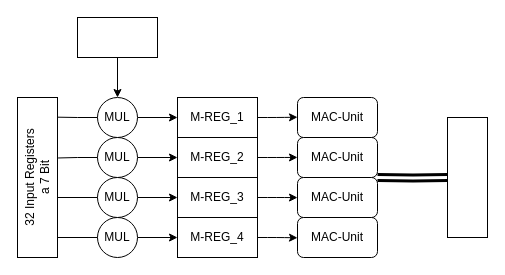
Some shapes in this 505 by 275 pixel diagram are drawn without their labels. The shapes that lost their labels are listed below. From the top down, each one's centre as x and y in pixels, then its label:
At [117,37]: "ROM".
At [467,177]: "To Output RAM".
